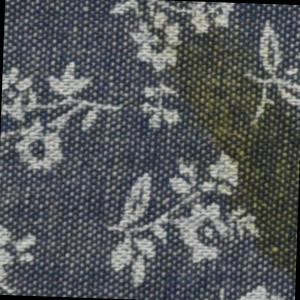Oil Stain: (149, 27, 300, 286)
